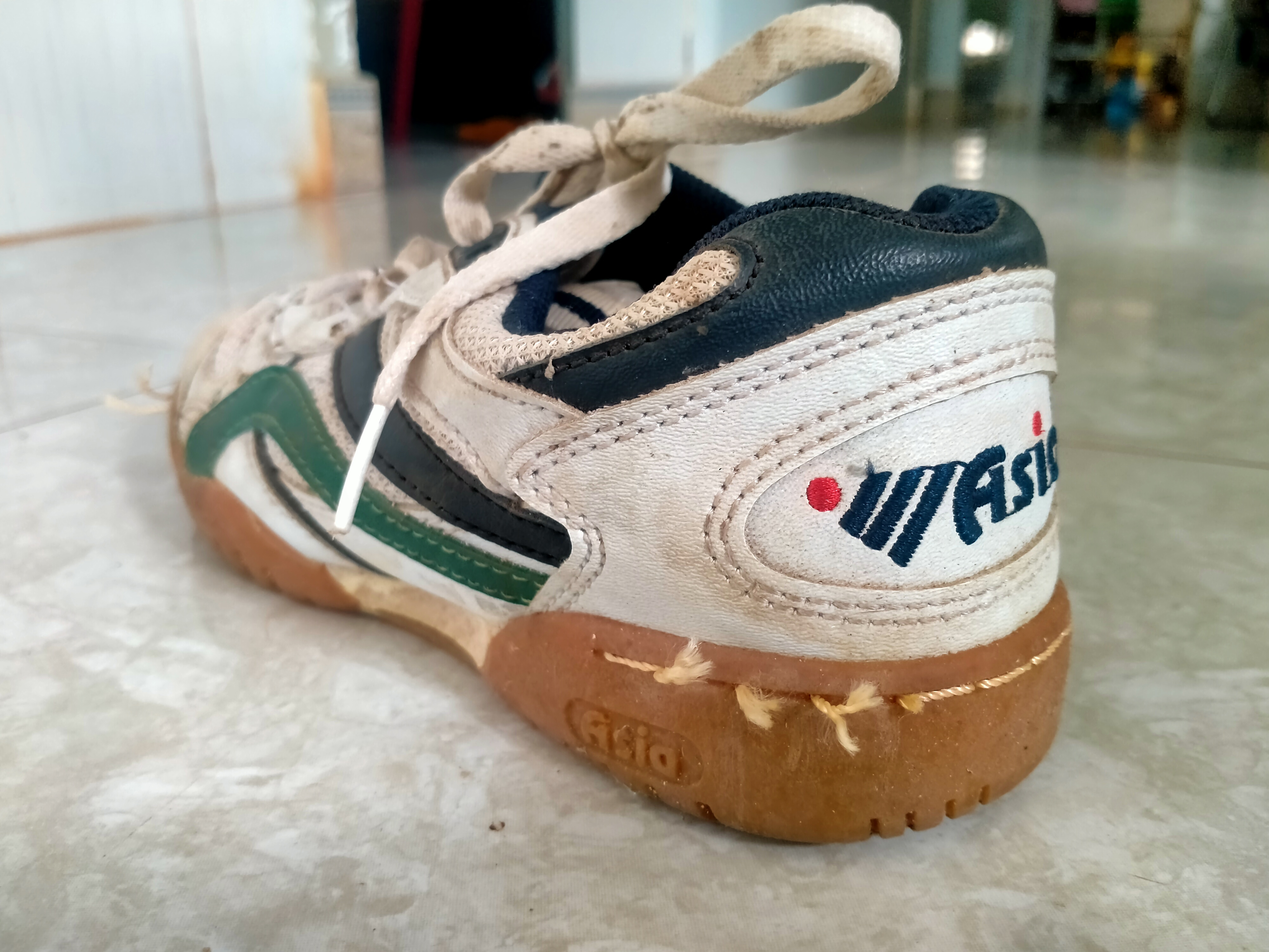broken: (651, 663, 933, 729)
